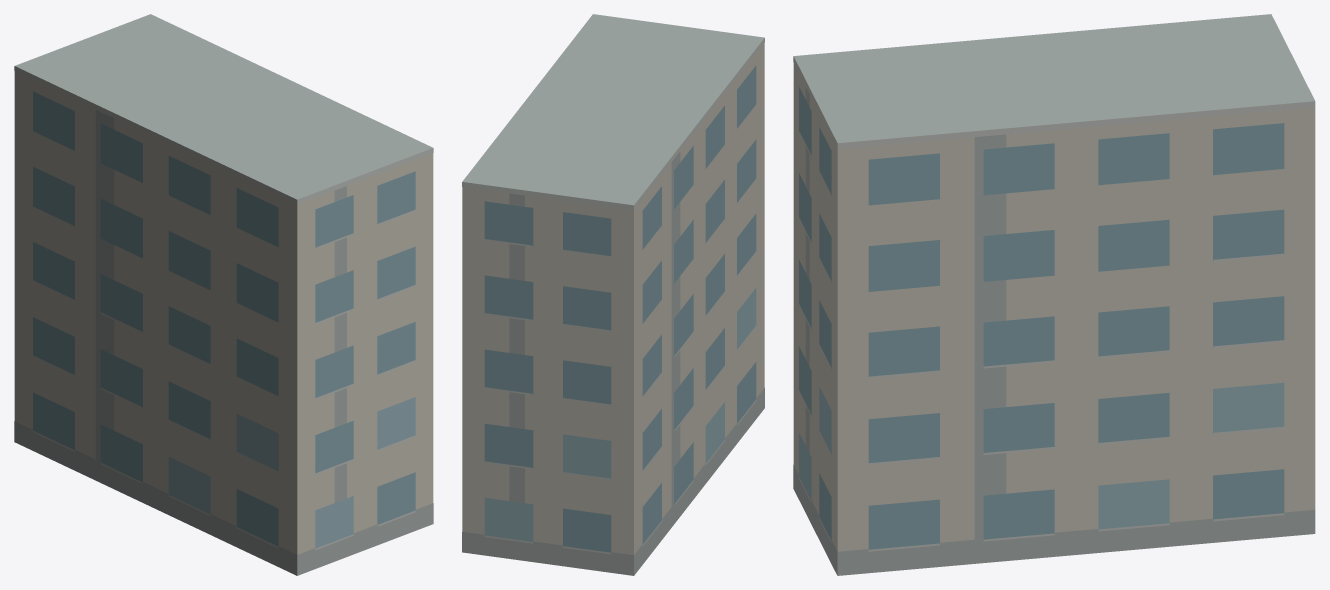
Rendered from survey-upis-32931567.glb.
The picture shows the model from 3 angles, left to right: view 1: azimuth 30°, elevation 25°; view 2: azimuth 150°, elevation 25°; view 3: azimuth 270°, elevation 25°; orthographic projection. The views are drawn at different scales.
Parts seen in each view (by area): view 1: survey-upis-32931567.tmp; view 2: survey-upis-32931567.tmp; view 3: survey-upis-32931567.tmp.
Boxes of the visible parts, x1=… form: survey-upis-32931567.tmp: x1=14, y1=14, x2=433, y2=575; survey-upis-32931567.tmp: x1=462, y1=14, x2=764, y2=575; survey-upis-32931567.tmp: x1=793, y1=14, x2=1315, y2=575.
Size of the model in its own units: 11.25 by 17.55 by 19.19.
